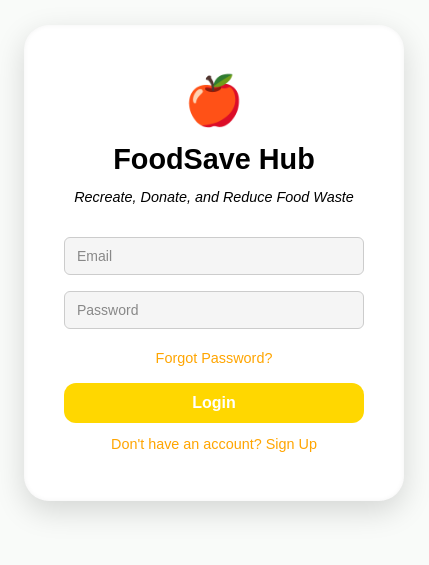
Test case: LoginForm Component › displays login error for wrong password
In the field with placeholder "Email": (214, 256) [64,237,364,275], type "user@test.com"
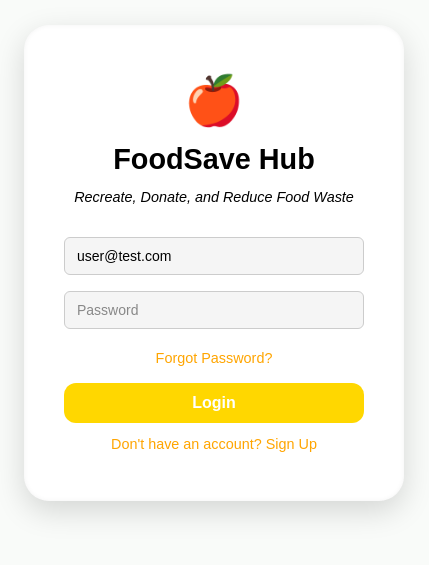
In the password field with placeholder "Password": (214, 310) [64,291,364,329], type "wrong"
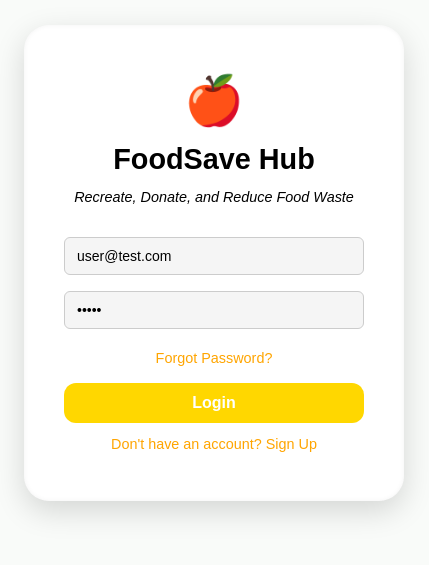
Click the button "Login": (214, 403) [64,383,364,423]
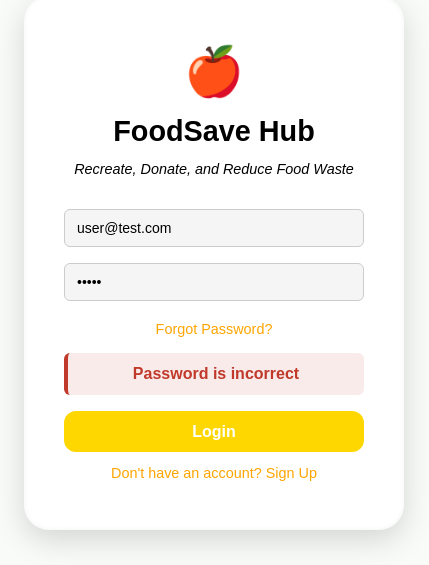
Expected: the text "Password is incorrect" is shown, [64,353,364,395]
